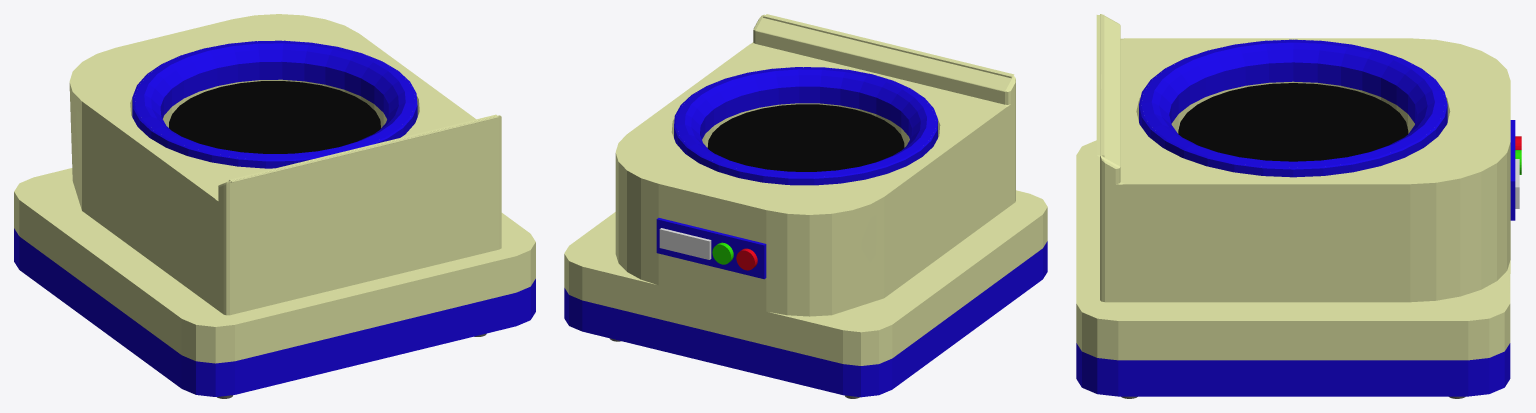
File: DESBASTADORAblend.fbx
3 renders of one model, left to right at view 1: azimuth 30°, elevation 25°; view 2: azimuth 150°, elevation 25°; view 3: azimuth 270°, elevation 25°, orthographic. The views are drawn at different scales.
Parts seen in each view (by area): view 1: CuerpoPrinc, Base, CubreLija, Lija; view 2: CuerpoPrinc, Base, CubreLija, Lija, Caratula, Display; view 3: CuerpoPrinc, CubreLija, Base, Lija, Caratula.
Part boxes in pixels (x1,y1,x2,y2): CuerpoPrinc: [14, 14, 535, 363]; Base: [14, 228, 535, 396]; CubreLija: [132, 40, 417, 168]; Lija: [169, 81, 380, 153]; CuerpoPrinc: [564, 14, 1047, 365]; Base: [564, 241, 1047, 397]; CubreLija: [674, 67, 937, 185]; Lija: [707, 104, 904, 171]; Caratula: [656, 218, 766, 279]; Display: [659, 228, 711, 259]; CuerpoPrinc: [1076, 14, 1510, 360]; CubreLija: [1139, 39, 1447, 177]; Base: [1076, 343, 1510, 396]; Lija: [1178, 83, 1408, 161]; Caratula: [1510, 120, 1515, 220].
Size of the model in its own units: 10 by 6.19 by 10.26.
